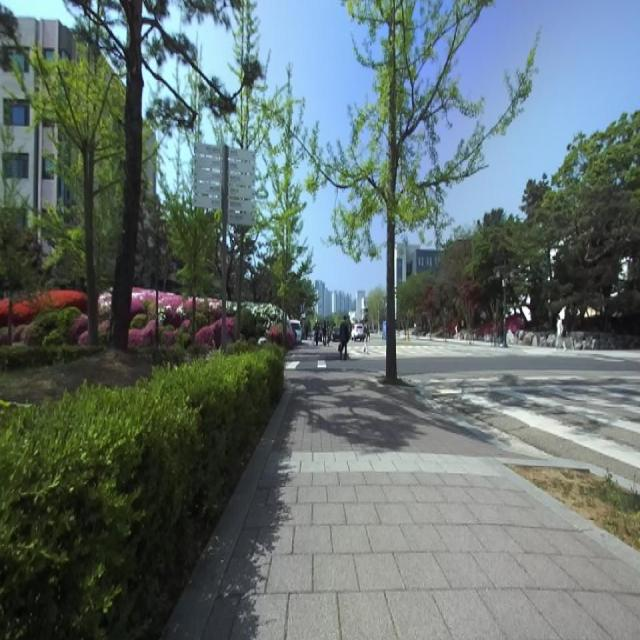sidewalk: (165, 370, 640, 639), (572, 350, 640, 358), (290, 344, 338, 355), (517, 345, 556, 355)
